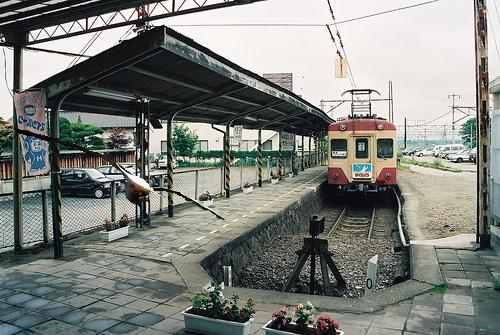tampered: (8, 128, 225, 220)
